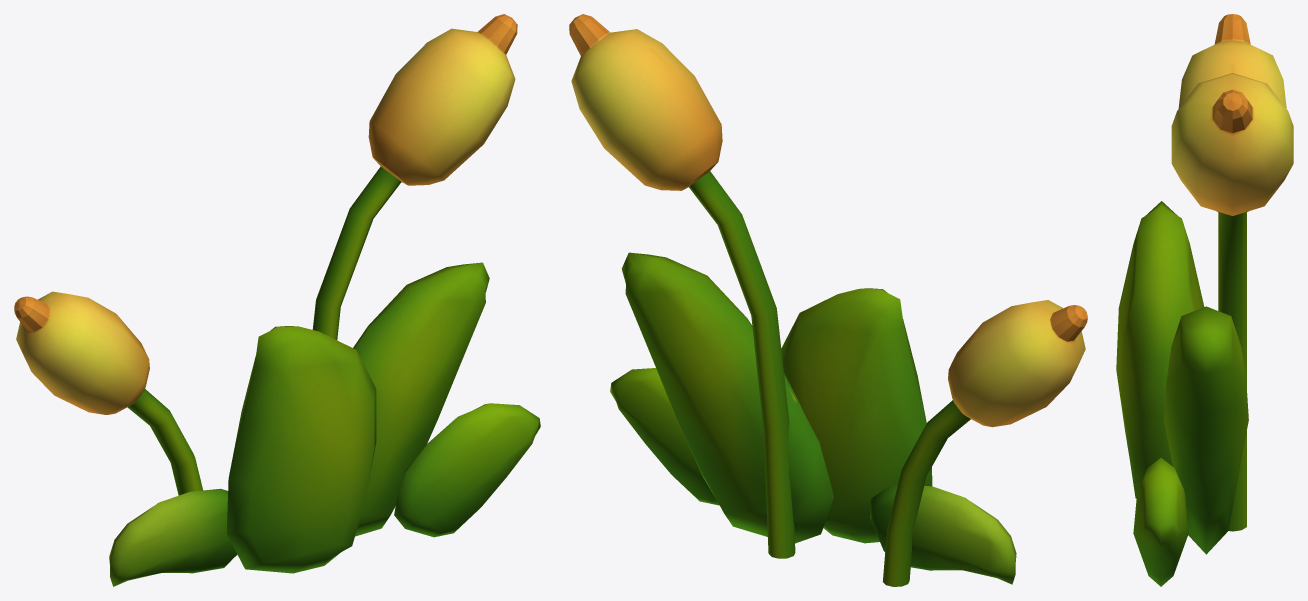
Rendered from 交互花.FBX.
The picture shows the model from 3 angles, left to right: view 1: azimuth 30°, elevation 25°; view 2: azimuth 150°, elevation 25°; view 3: azimuth 270°, elevation 25°; orthographic projection. The views are drawn at different scales.
Visible parts, largest first — view 1: 交互花; view 2: 交互花; view 3: 交互花.
Part boxes in pixels (x1,y1,x2,y2): 交互花: (14,14,540,586); 交互花: (569,14,1087,586); 交互花: (1116,14,1293,586).
Bounding box in the file's own units: 33.22 × 30.2 × 8.96.
1 material, 1 textured.
